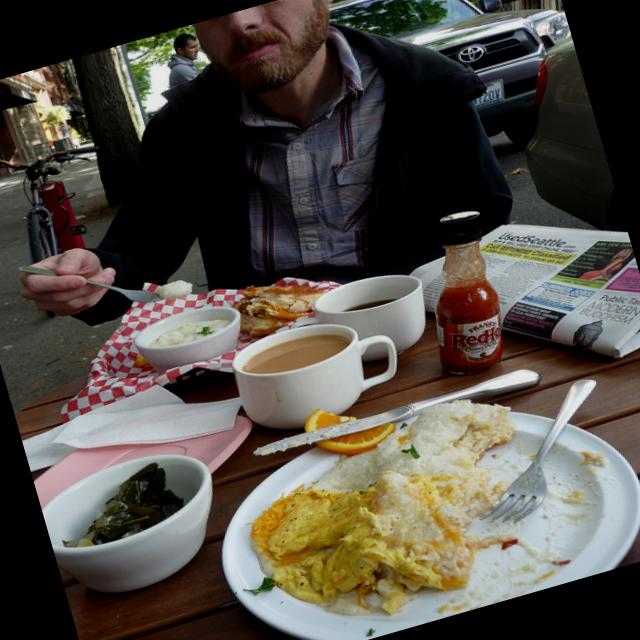Vehicle: (321, 0, 569, 190), (496, 33, 627, 252)
